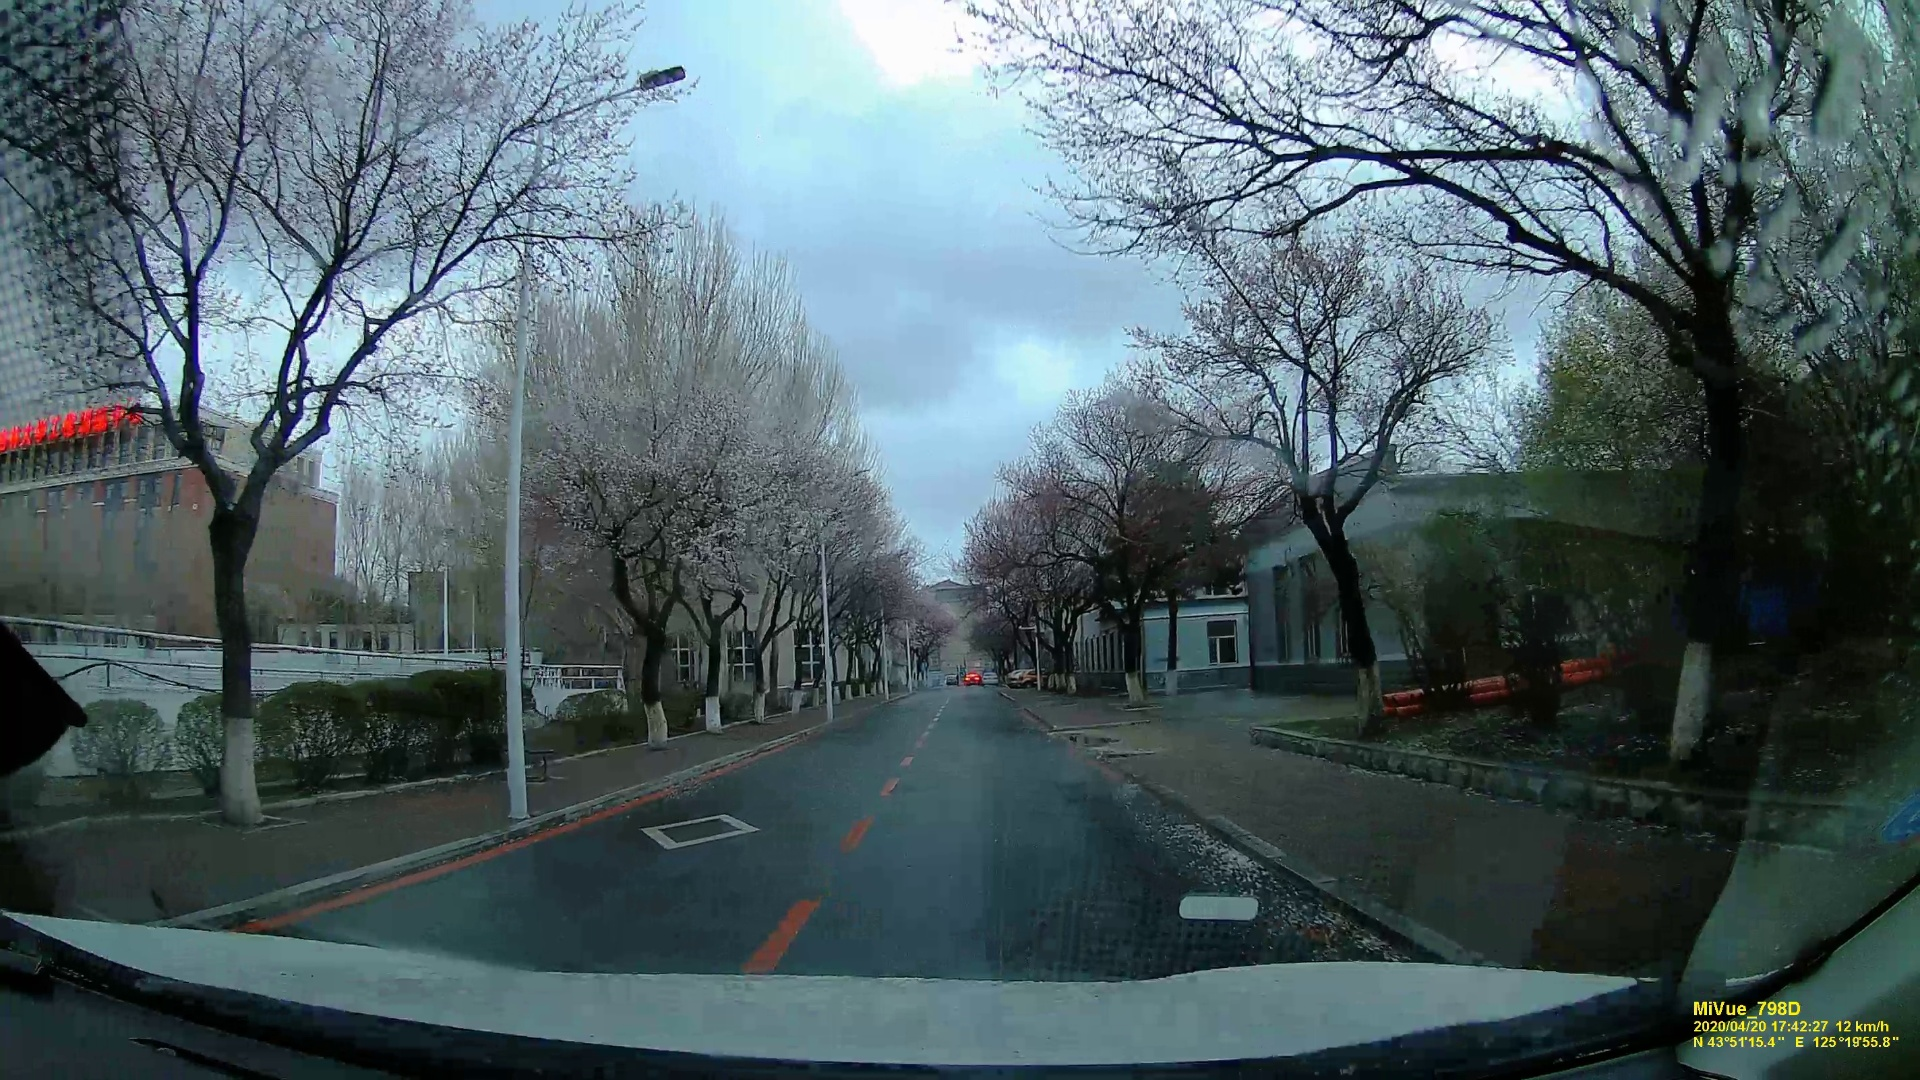vehicle: (963, 673, 980, 687), (982, 671, 1000, 686)
